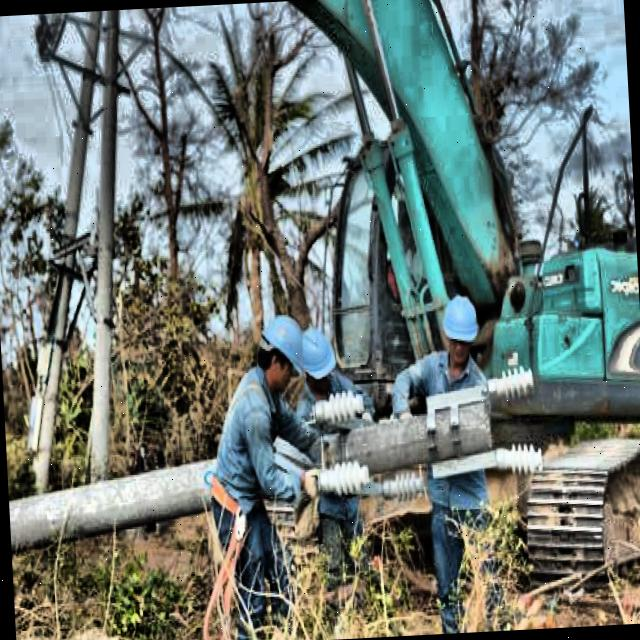helmet: (258, 314, 316, 397), (440, 290, 482, 364), (294, 319, 337, 384)
